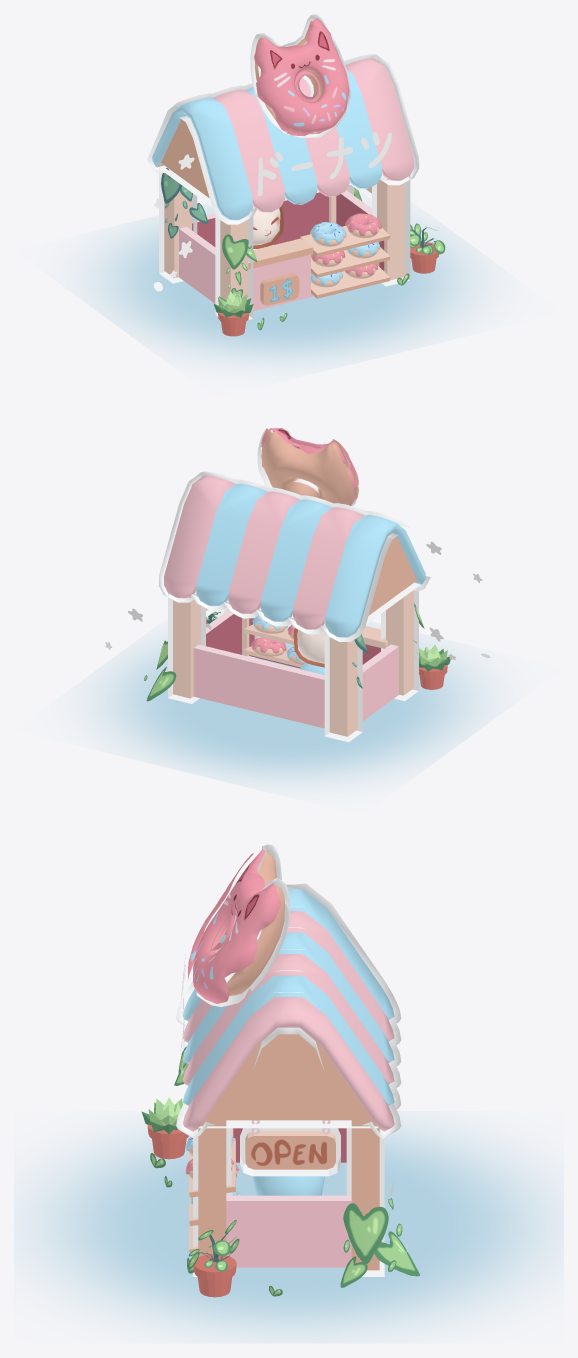
The model's file is kitty_donut_shop.glb.
3 renders of one model, top to bottom at view 1: azimuth 30°, elevation 25°; view 2: azimuth 150°, elevation 25°; view 3: azimuth 270°, elevation 25°, orthographic. The views are drawn at different scales.
Parts seen in each view (by area): view 1: topper.001, Plane.059, topper.004, Cube.016, Plane.066, topper.003, PolySphere.001, topper.002, Torus.010, Plane.040, Cylinder.001, Torus.013 (+1 smaller); view 2: topper.001, Plane.059, topper.004, PolySphere.001, Cube.016, Torus.012, Cylinder; view 3: Plane.059, topper.001, topper.004, Plane.033, Cube.005, Cylinder.001, Plane.038, Cylinder, Cube.016.
Boxes of the visible parts, left/top/right/bottom form: topper.001: left=147, top=14, right=419, bottom=319; Plane.059: left=48, top=191, right=520, bottom=380; topper.004: left=179, top=190, right=384, bottom=311; Cube.016: left=300, top=225, right=390, bottom=298; Plane.066: left=257, top=132, right=391, bottom=196; topper.003: left=248, top=238, right=313, bottom=269; PolySphere.001: left=253, top=205, right=284, bottom=248; topper.002: left=260, top=273, right=299, bottom=305; Torus.010: left=345, top=213, right=381, bottom=238; Plane.040: left=222, top=234, right=248, bottom=269; Cylinder.001: left=410, top=242, right=439, bottom=273; Torus.013: left=310, top=222, right=346, bottom=244; topper.001: left=158, top=428, right=430, bottom=742; Plane.059: left=53, top=610, right=525, bottom=801; topper.004: left=193, top=610, right=398, bottom=728; PolySphere.001: left=293, top=628, right=324, bottom=667; Cube.016: left=243, top=624, right=301, bottom=667; Torus.012: left=251, top=637, right=286, bottom=656; Cylinder: left=419, top=665, right=447, bottom=689; Plane.059: left=14, top=1111, right=563, bottom=1343; topper.001: left=176, top=844, right=401, bottom=1276; topper.004: left=226, top=1128, right=351, bottom=1267; Plane.033: left=343, top=1203, right=388, bottom=1263; Cube.005: left=253, top=1176, right=324, bottom=1195; Cylinder.001: left=193, top=1254, right=236, bottom=1297; Plane.038: left=374, top=1231, right=419, bottom=1276; Cylinder: left=147, top=1124, right=188, bottom=1159; Cube.016: left=189, top=1138, right=235, bottom=1253.
Bounding box in the file's own units: 16.3 × 11.98 × 16.3.
3 materials, 3 textured.
